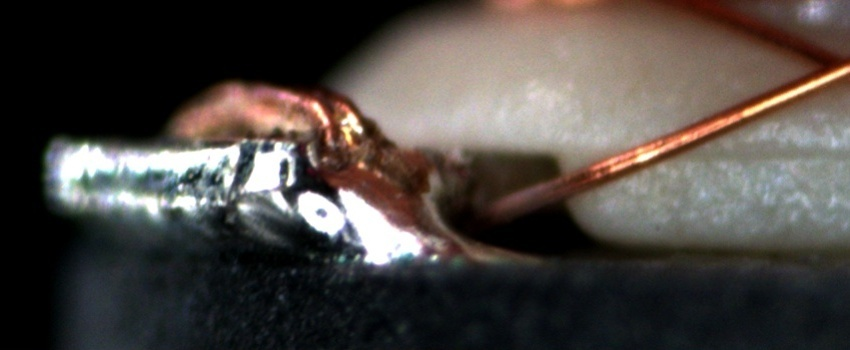CL: (783, 35, 847, 93)
DL: (684, 125, 849, 189)
TE: (228, 80, 359, 138)
